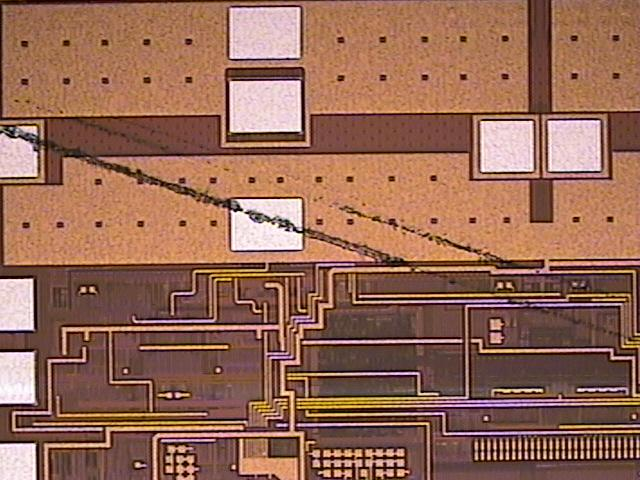SCRATCH: (1, 71, 640, 352)
